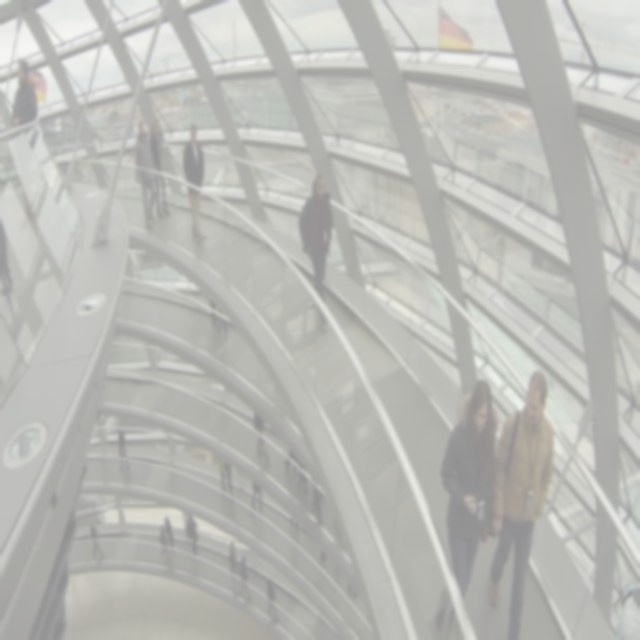pessoa: (487, 368, 556, 639), (431, 374, 498, 638), (294, 170, 334, 334), (280, 438, 324, 536), (180, 120, 208, 247), (134, 118, 158, 230), (148, 118, 172, 220), (319, 545, 358, 603), (8, 56, 38, 131), (0, 211, 15, 300), (252, 411, 272, 462), (207, 294, 230, 338), (184, 508, 199, 555), (116, 426, 130, 474), (266, 578, 280, 626), (238, 552, 252, 600), (90, 520, 105, 559), (250, 480, 263, 516), (159, 524, 171, 563), (216, 452, 227, 494), (228, 541, 240, 579), (164, 514, 174, 550), (223, 460, 233, 495)
